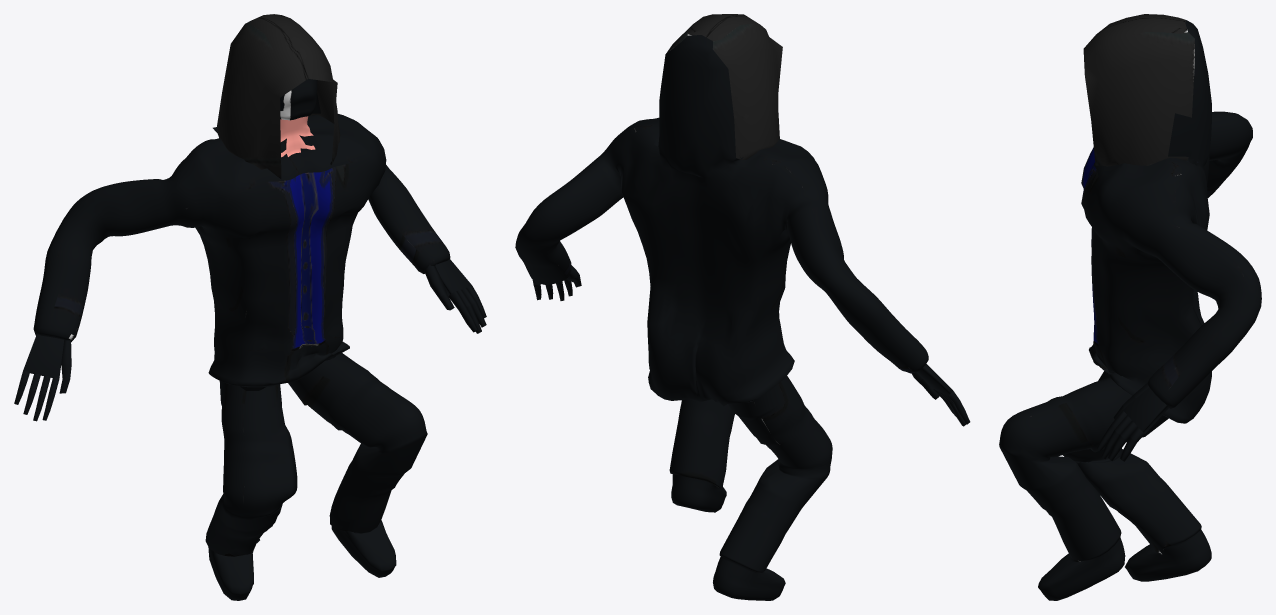
File: keyFrame06.obj
3 renders of one model, left to right at view 1: azimuth 30°, elevation 25°; view 2: azimuth 150°, elevation 25°; view 3: azimuth 270°, elevation 25°, orthographic. The views are drawn at different scales.
Visible parts, largest first — view 1: pasted__polySurface71 group4; view 2: pasted__polySurface71 group4; view 3: pasted__polySurface71 group4.
Part boxes in pixels (box(x1,y1,x2,y2)): pasted__polySurface71 group4: box(14, 14, 486, 600); pasted__polySurface71 group4: box(515, 14, 970, 600); pasted__polySurface71 group4: box(999, 14, 1261, 600).
Size of the model in its own units: 10.36 by 12.37 by 5.05.
